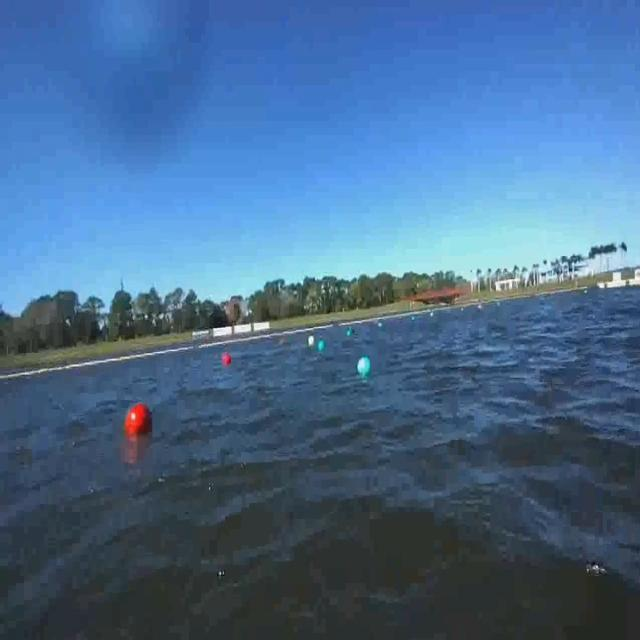green-buoy: (358, 355, 370, 376), (317, 341, 326, 352)
red-buoy: (125, 402, 157, 440), (222, 352, 231, 367)
